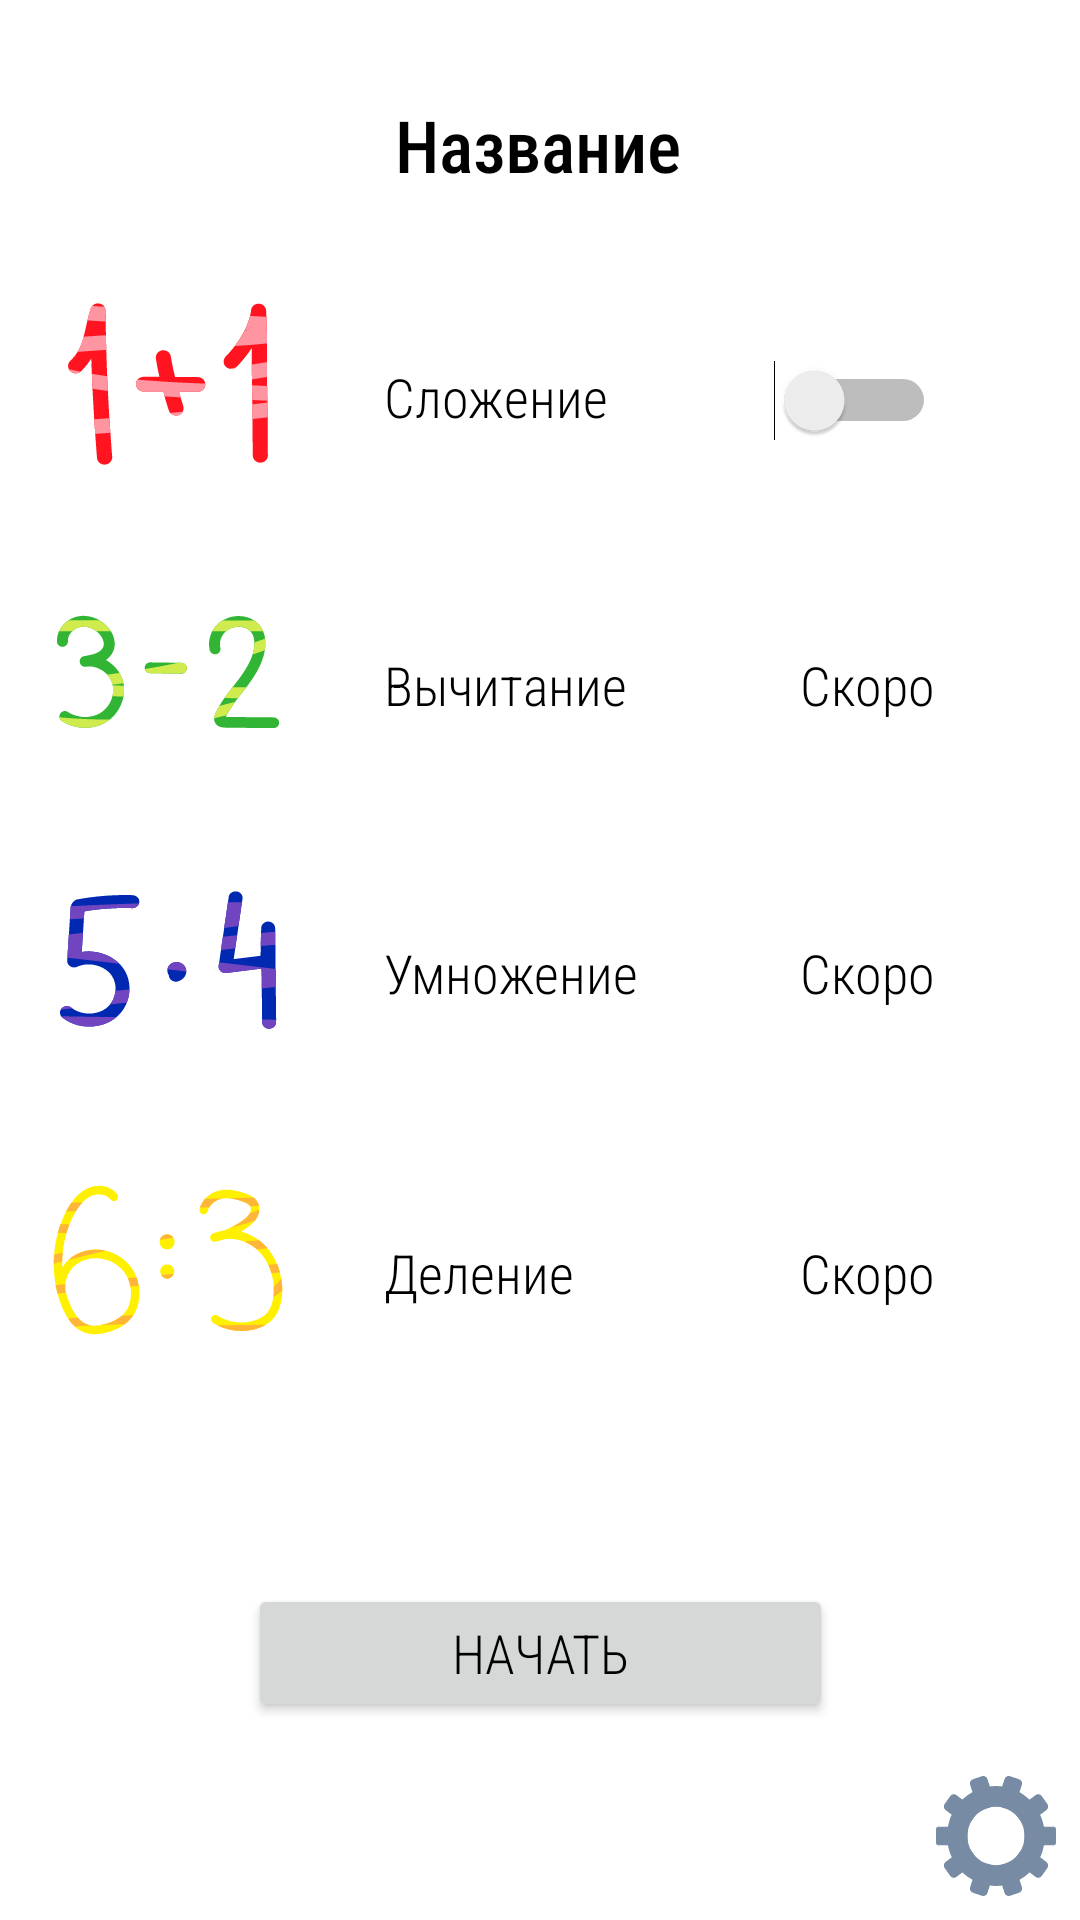

Point at icon controls on the screen. Image size 1080 x 1920, points as point (x, y).
div: point (168, 1260)
mul: point (168, 960)
settings: point (996, 1836)
sub: point (168, 671)
sum: point (168, 384)
